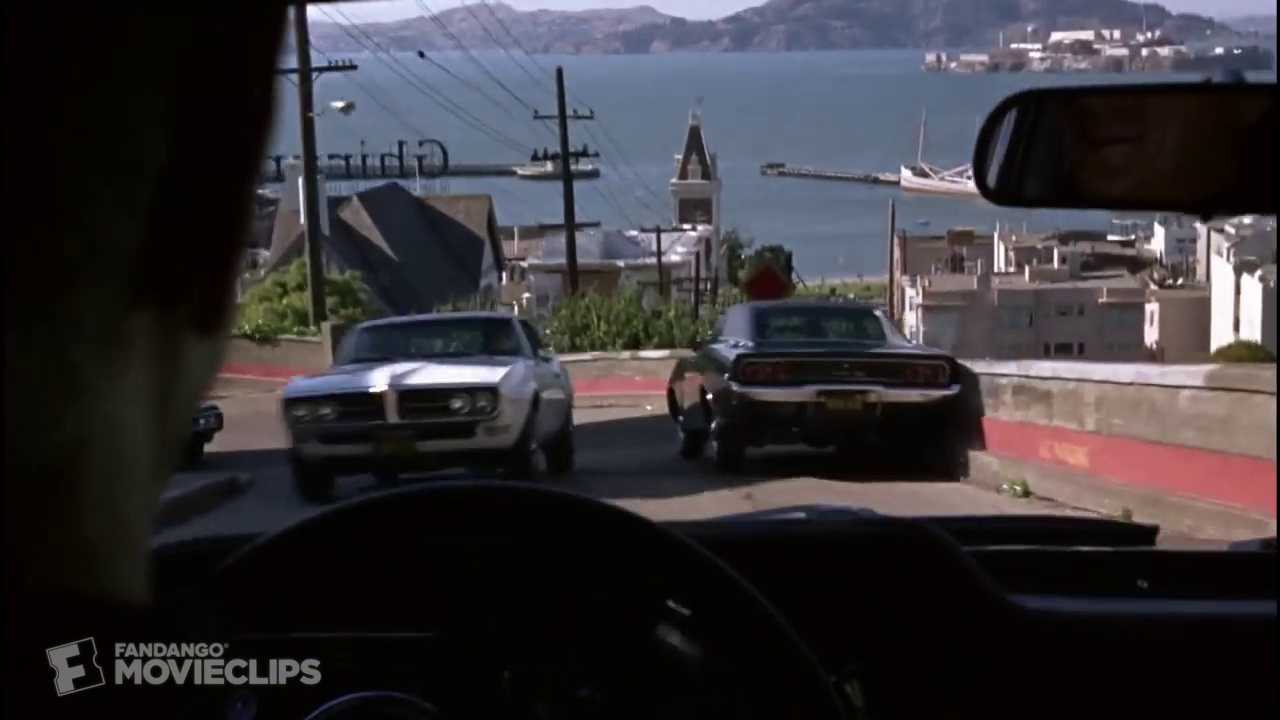car: (162, 467, 1280, 718), (277, 295, 586, 516), (657, 292, 981, 471)
person: (1, 4, 309, 644)
stop sign: (729, 253, 802, 319)
